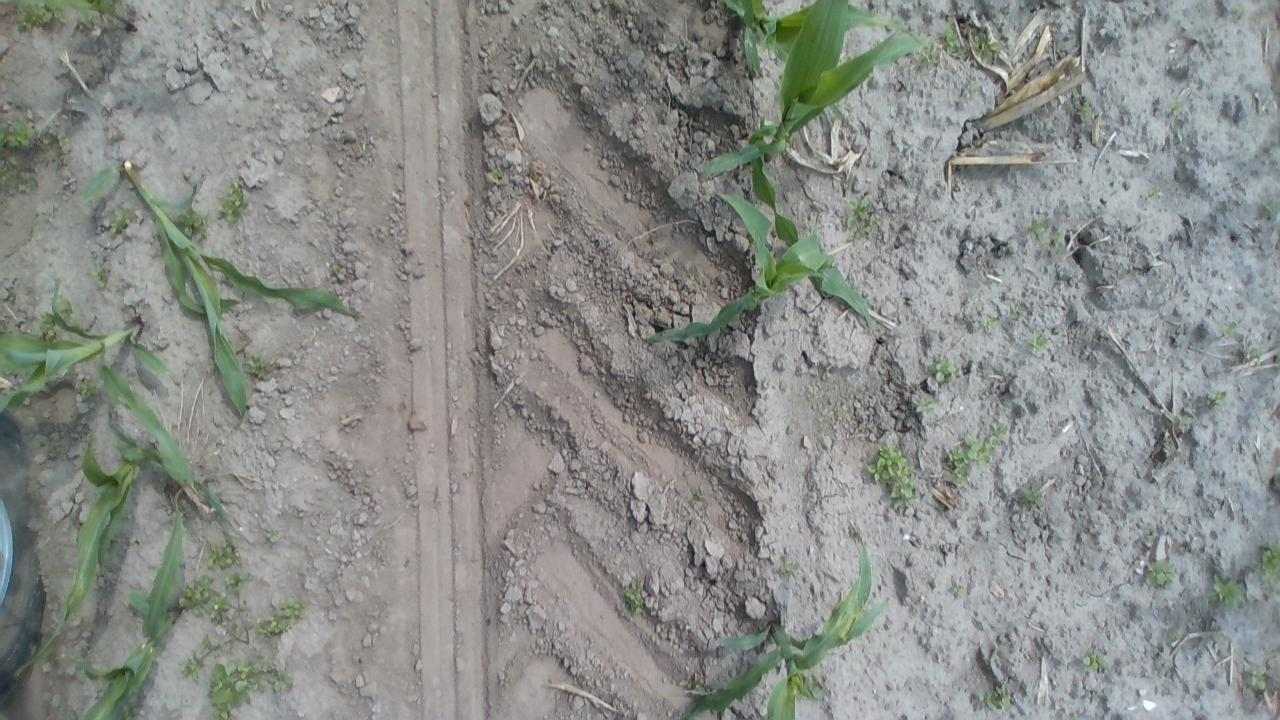Maize: (701, 4, 930, 320), (98, 159, 364, 425), (13, 441, 226, 681), (675, 530, 894, 719), (0, 273, 190, 476), (641, 187, 880, 347), (52, 492, 196, 716), (710, 2, 910, 127), (0, 1, 140, 34), (720, 2, 780, 74)
Weeds: (202, 658, 292, 719), (864, 440, 919, 510), (945, 424, 1009, 484), (250, 596, 310, 640), (842, 194, 881, 244), (14, 2, 76, 30), (38, 298, 77, 342), (216, 180, 252, 226), (1206, 571, 1246, 610), (788, 668, 827, 708), (178, 575, 212, 617), (0, 119, 43, 152), (1142, 559, 1180, 591), (207, 536, 243, 569), (173, 209, 210, 241), (620, 577, 648, 618), (966, 32, 1000, 63), (1255, 540, 1276, 588), (978, 684, 1015, 710), (1036, 224, 1066, 256), (245, 352, 279, 380), (1241, 662, 1271, 692), (75, 374, 104, 404), (1080, 646, 1110, 674), (914, 390, 940, 422), (208, 590, 230, 626), (931, 356, 960, 383), (108, 205, 134, 235), (42, 134, 72, 158), (1025, 328, 1052, 354), (198, 632, 228, 655), (1024, 214, 1048, 241), (942, 26, 964, 55), (1020, 485, 1044, 511), (90, 262, 112, 290), (0, 157, 20, 186), (1072, 95, 1094, 119), (1240, 342, 1264, 364), (1204, 389, 1228, 411), (689, 485, 710, 510), (180, 658, 201, 682), (1170, 413, 1198, 431), (224, 574, 249, 594), (486, 166, 508, 188), (918, 42, 938, 66), (37, 433, 62, 452), (1258, 195, 1277, 219), (118, 702, 146, 718), (1230, 2, 1252, 22), (981, 312, 1001, 334), (781, 558, 802, 578), (1216, 322, 1238, 341), (262, 528, 282, 547), (1141, 186, 1162, 204), (950, 580, 968, 600), (1167, 100, 1185, 120), (963, 78, 981, 96), (646, 228, 661, 245), (1008, 301, 1023, 316), (236, 624, 250, 640), (694, 683, 710, 697), (26, 173, 38, 190), (1169, 626, 1182, 638), (679, 678, 690, 689), (238, 604, 248, 612)
